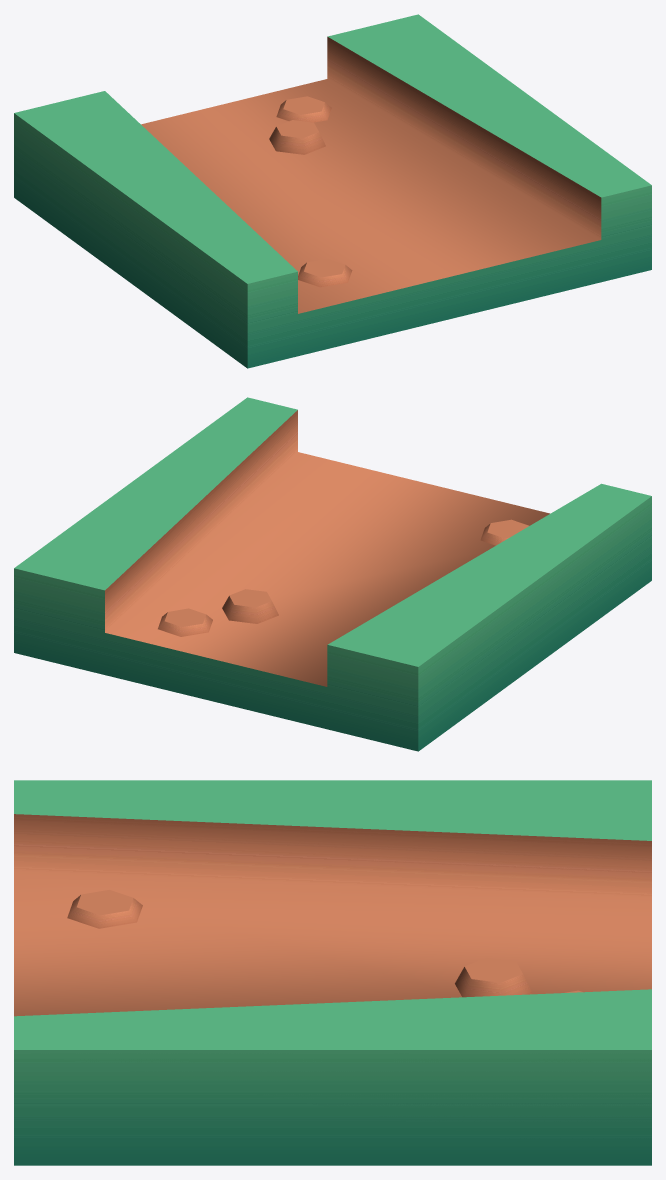
Rendered from tile-transition.glb.
The picture shows the model from 3 angles, top to bottom: view 1: azimuth 30°, elevation 25°; view 2: azimuth 150°, elevation 25°; view 3: azimuth 270°, elevation 25°; orthographic projection. The views are drawn at different scales.
Visible parts, largest first — view 1: tile-transition; view 2: tile-transition; view 3: tile-transition.
Part boxes in pixels (x1=…): tile-transition: x1=14, y1=14, x2=651, y2=368; tile-transition: x1=14, y1=397, x2=651, y2=751; tile-transition: x1=14, y1=780, x2=651, y2=1165.
Bounding box in the file's own units: 1 × 0.2 × 1.
Materials: 1 (1 with a texture image).
